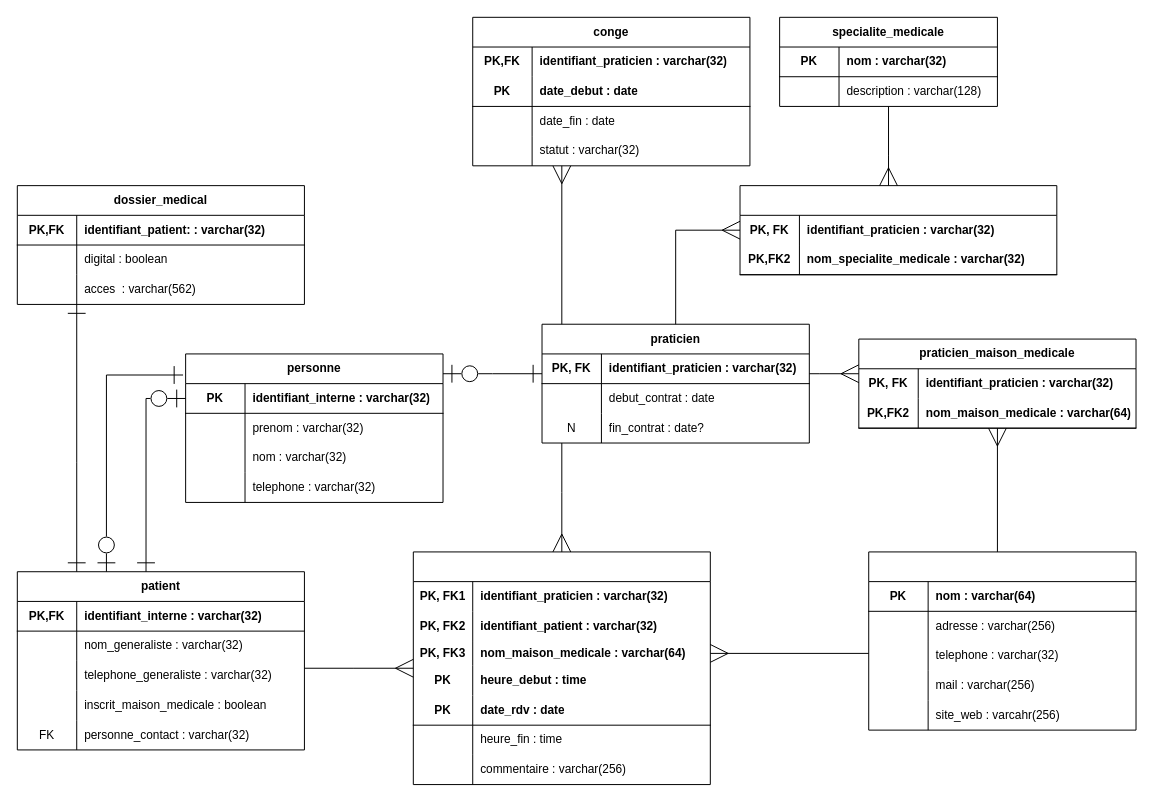
Image size: 1153x802. Some labels were removed from this diagram. The shapes that lost their labels are listed below. From the top down, each one's box as (x1, y1, x2, y2) in pixels, then its label:
(739, 185, 1057, 275): praticien_specialite_medicale
(868, 551, 1136, 730): maison_medicale
(412, 551, 710, 785): rendez_vous
